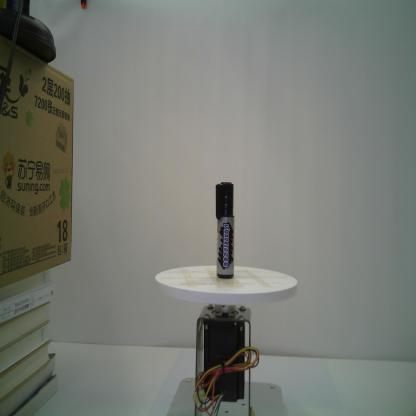Stationery: (214, 181, 235, 280)
